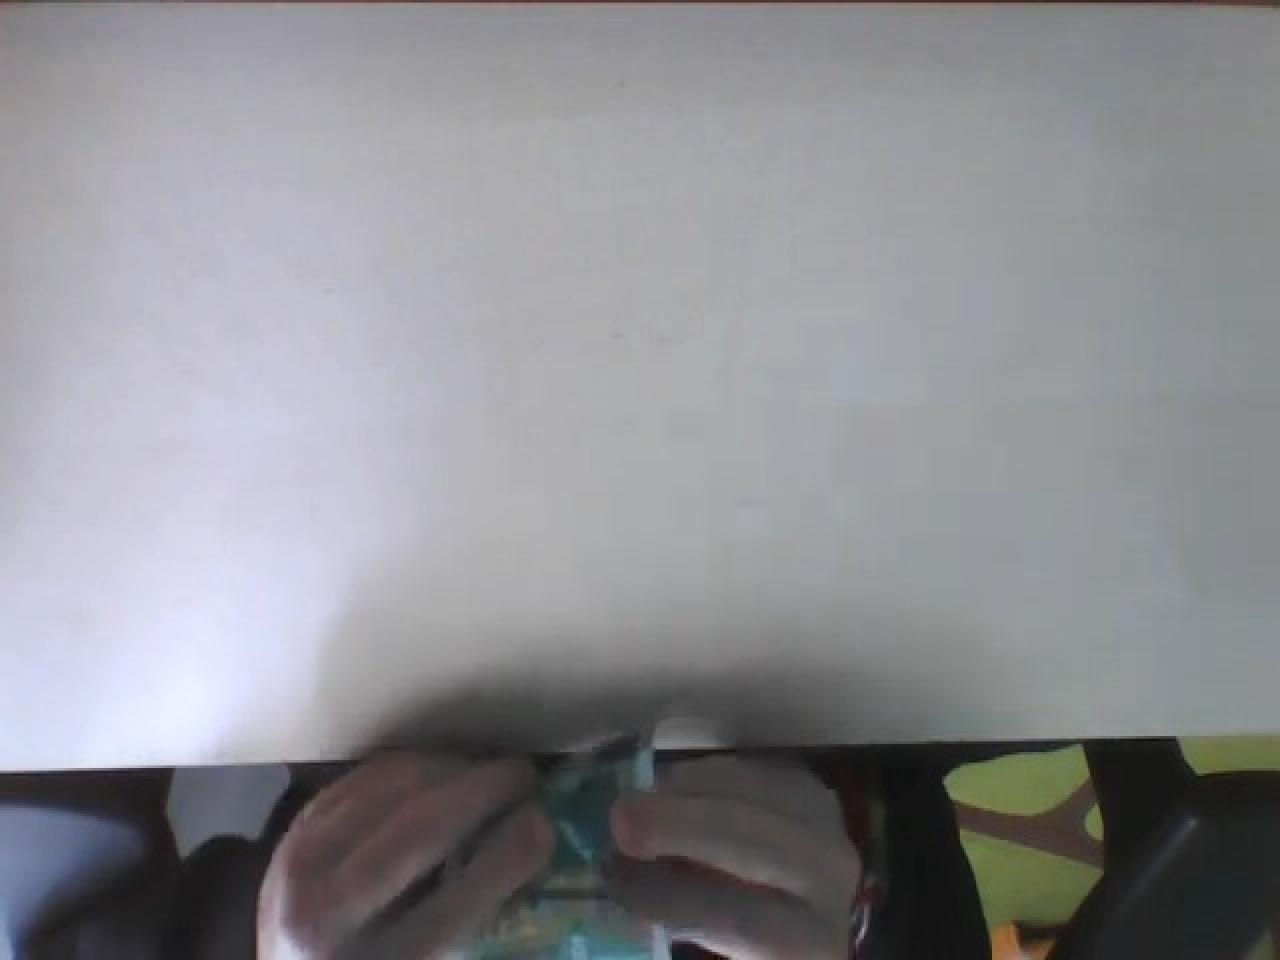100leva: (490, 741, 656, 920)
